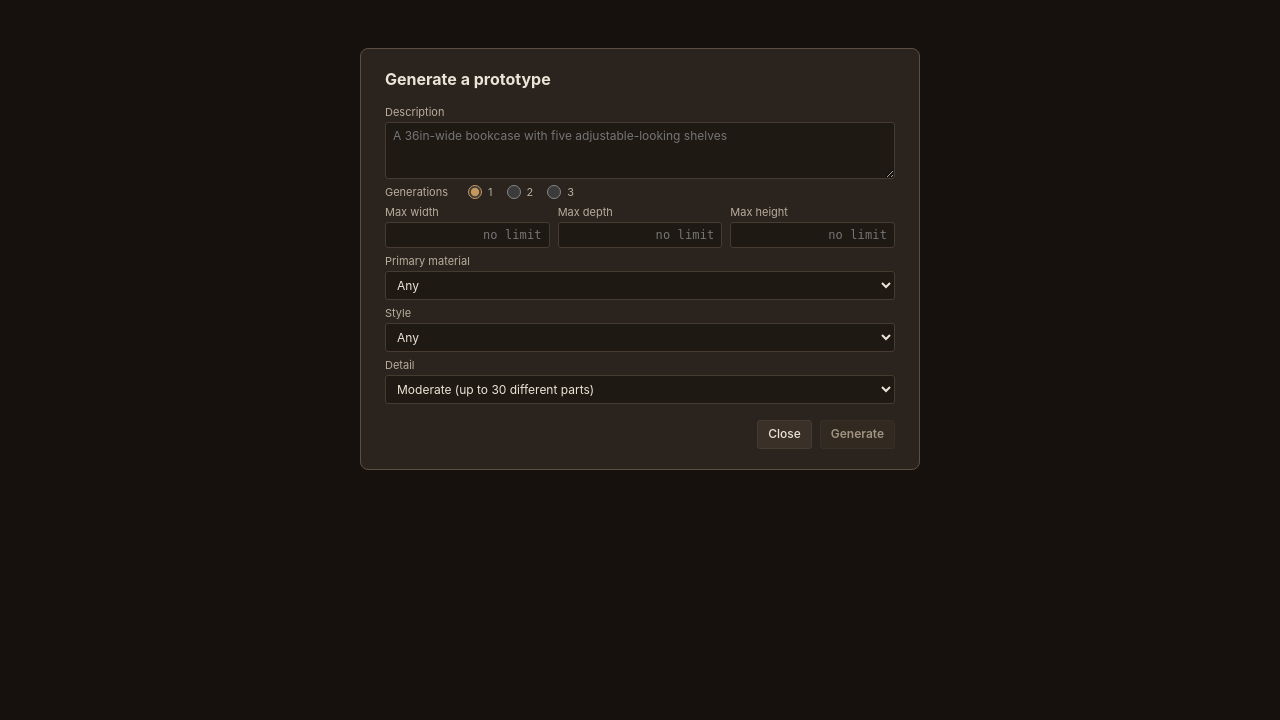
Test: GenerateDialog › blocks an unparseable or non-positive max size: abc
Type "a box" into the text box labelled "Description" at (640, 150), box [385,122,895,179]
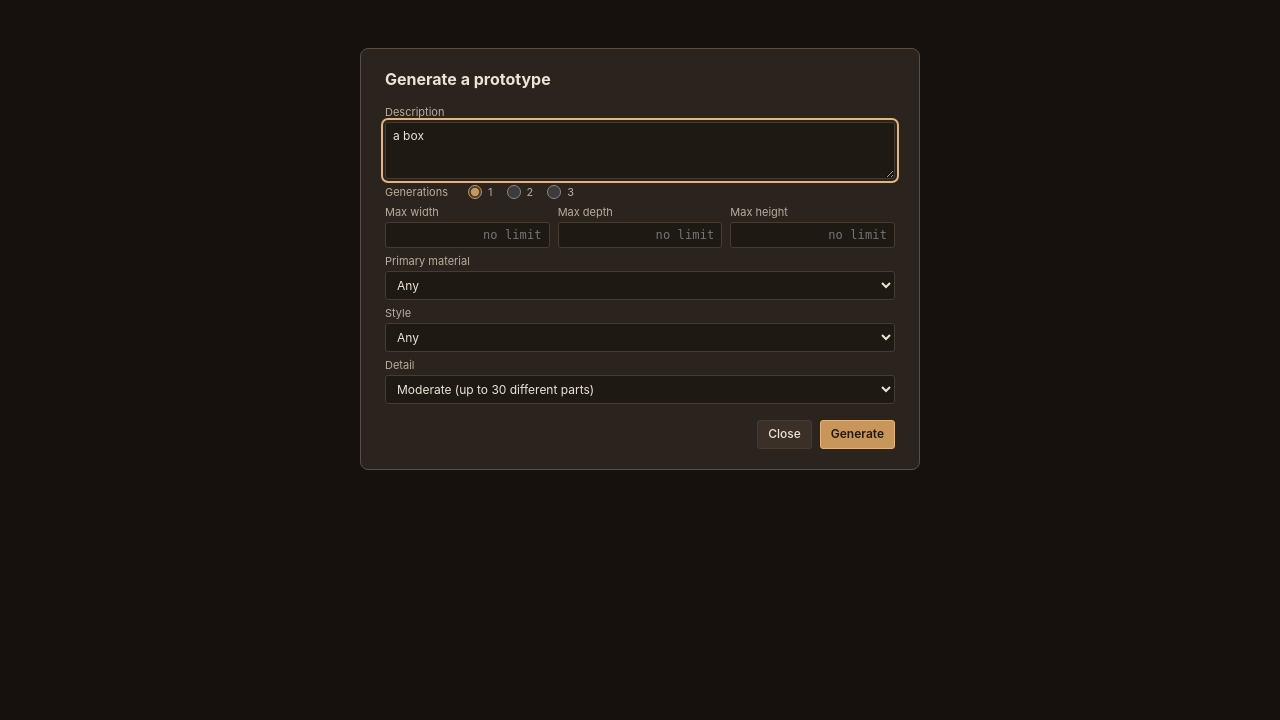
Type "abc" into the field labelled "Max depth" at (640, 235), box [558,222,722,248]
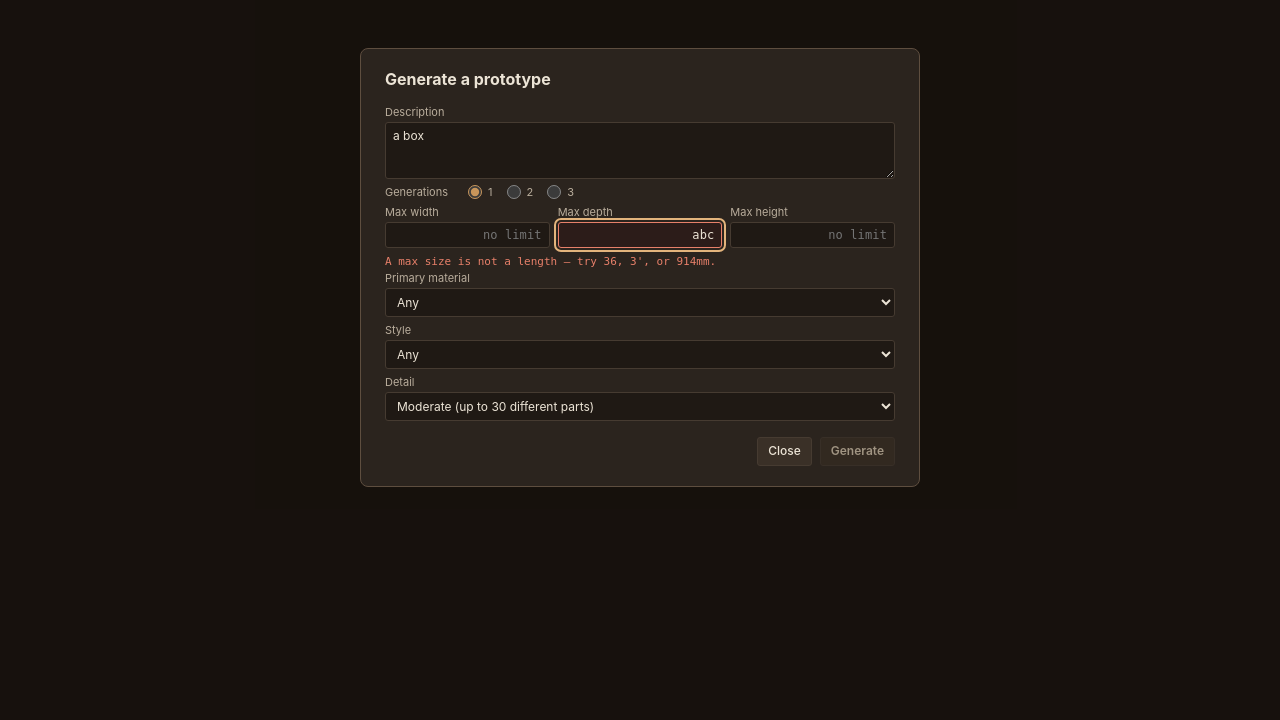
expect the button "Generate" is disabled: met, box [820,437,895,466]
expect the text "A max size is not a length — try 36, 3', or 914mm." is shown: met, box [385,255,716,268]
